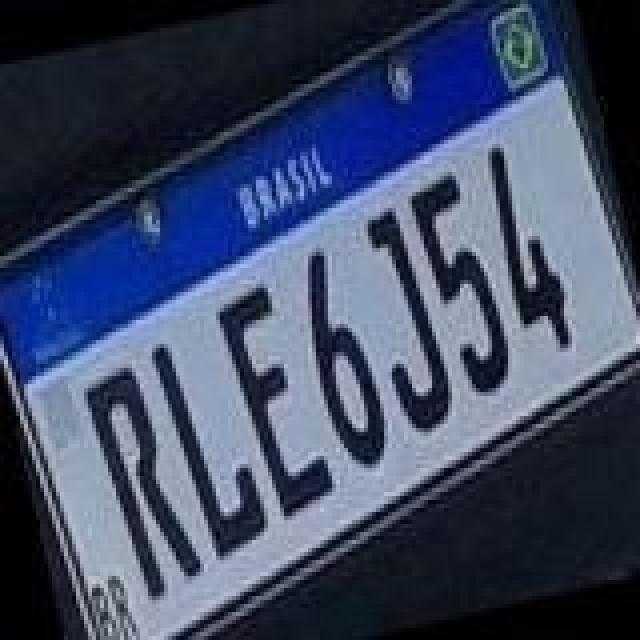4: (476, 136, 580, 360)
5: (404, 170, 524, 406)
6: (288, 242, 400, 478)
E: (210, 276, 342, 524)
J: (352, 202, 464, 438)
L: (148, 328, 276, 568)
R: (78, 356, 210, 612)
